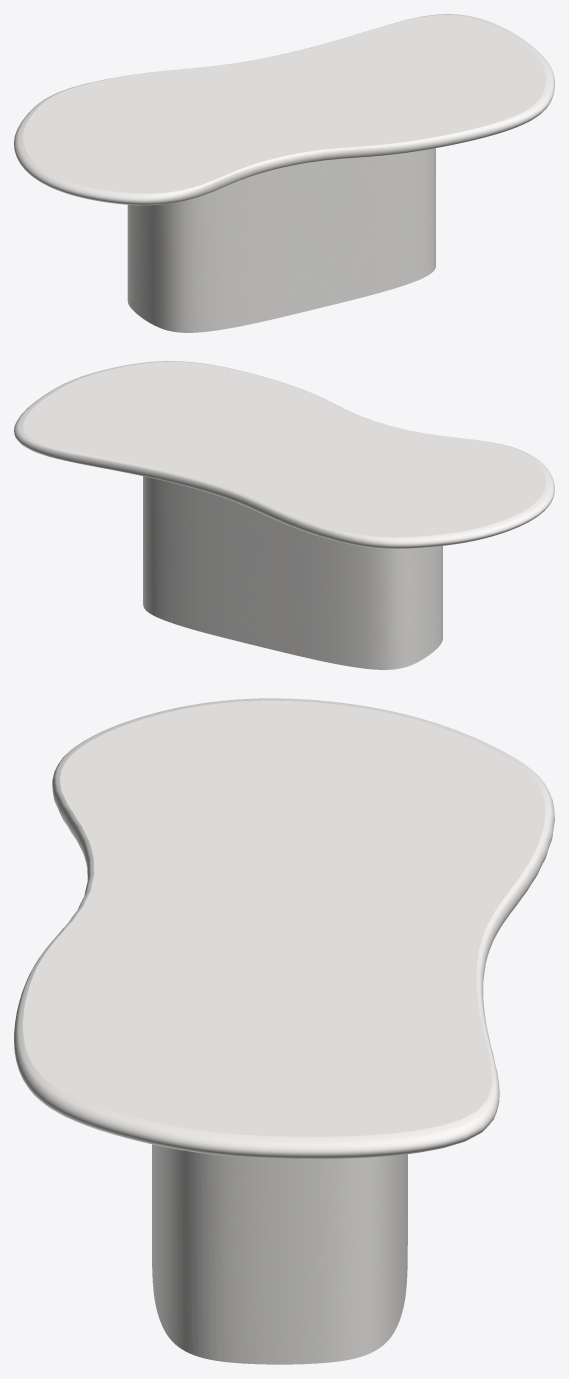
File: purewhite_wave_round_fixed.glb
3 renders of one model, top to bottom at view 1: azimuth 30°, elevation 25°; view 2: azimuth 150°, elevation 25°; view 3: azimuth 270°, elevation 25°, orthographic. The views are drawn at different scales.
Parts seen in each view (by area): view 1: round_wave, fixed; view 2: round_wave, fixed; view 3: round_wave, fixed.
Boxes of the visible parts, x1,y1,x2,y2 form: round_wave: (14, 14, 554, 205); fixed: (127, 148, 435, 332); round_wave: (14, 361, 554, 548); fixed: (143, 476, 442, 669); round_wave: (14, 698, 554, 1159); fixed: (152, 1144, 407, 1364).
Bounding box in the file's own units: 7.5 × 2.5 × 3.8.
1 material, 1 textured.
